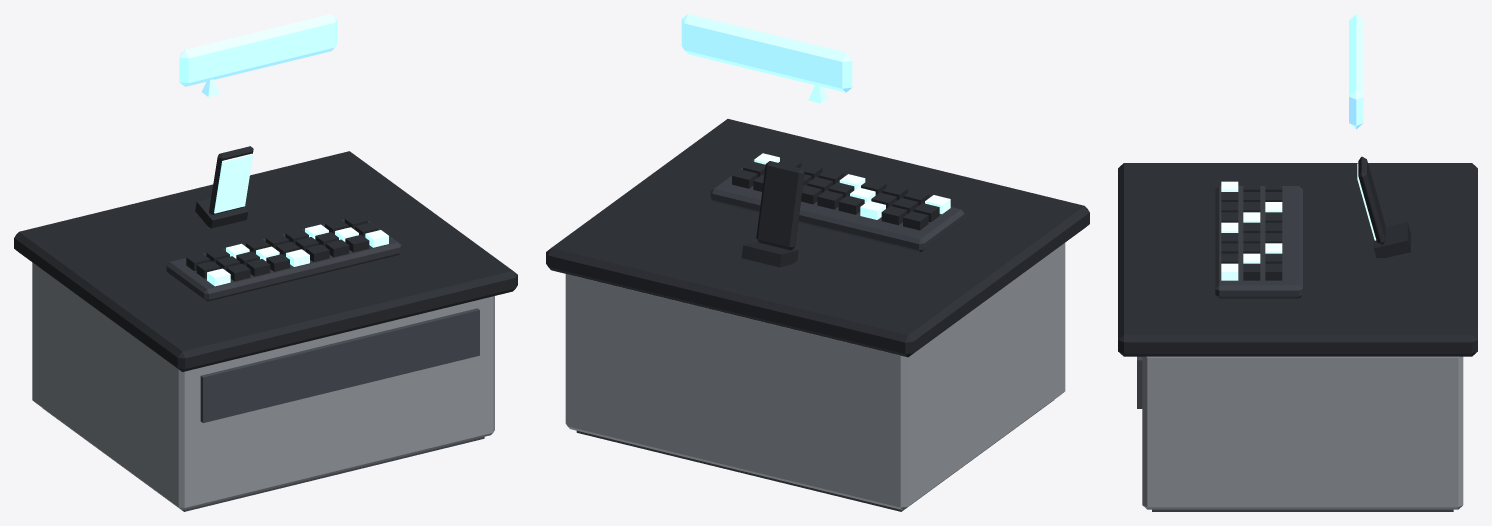
Rendered from quickreply_p1_4.glb.
3 renders of one model, left to right at view 1: azimuth 30°, elevation 25°; view 2: azimuth 150°, elevation 25°; view 3: azimuth 270°, elevation 25°, orthographic. The views are drawn at different scales.
Parts seen in each view (by area): view 1: quickreply_p1_4_mesh_Desk, quickreply_p1_4_mesh; view 2: quickreply_p1_4_mesh_Desk, quickreply_p1_4_mesh; view 3: quickreply_p1_4_mesh_Desk, quickreply_p1_4_mesh.
Boxes of the visible parts, x1,y1,x2,y2 form: quickreply_p1_4_mesh_Desk: (14, 151, 517, 511); quickreply_p1_4_mesh: (166, 14, 401, 301); quickreply_p1_4_mesh_Desk: (546, 119, 1089, 511); quickreply_p1_4_mesh: (681, 14, 964, 267); quickreply_p1_4_mesh_Desk: (1118, 163, 1477, 511); quickreply_p1_4_mesh: (1215, 14, 1410, 298).
Bounding box in the file's own units: 0.86 × 0.89 × 0.74.
